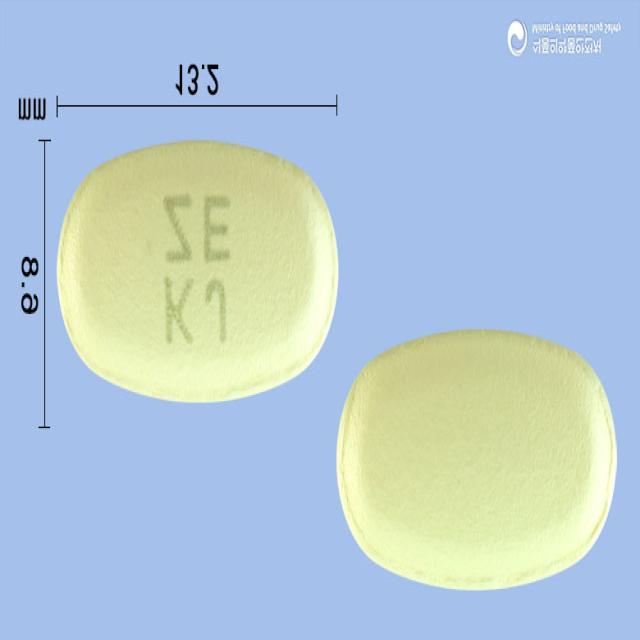Clarithromycin Tab- Youngpoong: (57, 141, 339, 406), (337, 331, 617, 592)
